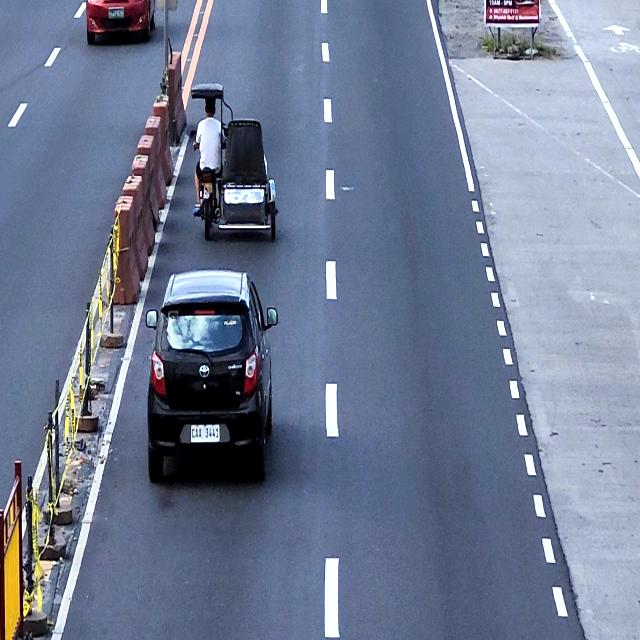Car: (145, 268, 278, 482), (85, 0, 155, 44)
License-Plate: (189, 422, 221, 444), (108, 7, 124, 20)
Tricycle: (190, 82, 278, 242)
